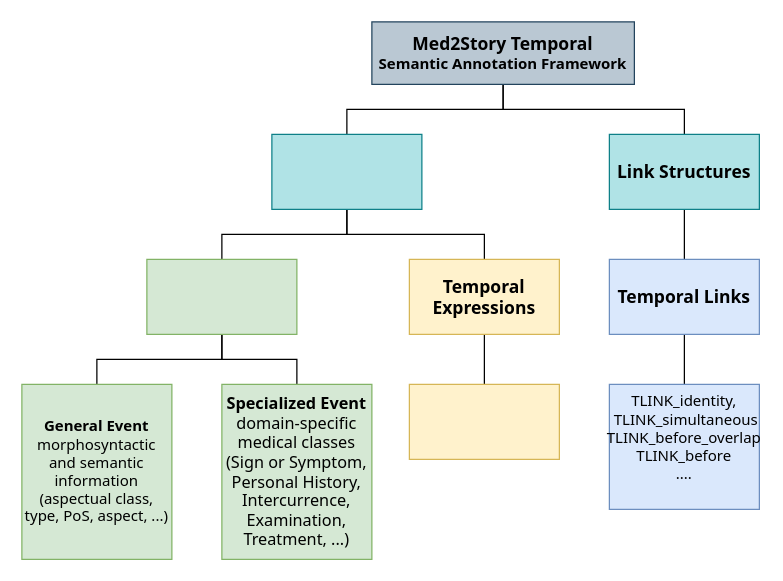
The diagram is 783 pixels wide and 581 high, and some of its shapes have lost their labels. Each missing label, with the centre of its shape:
"Date Time Duration Set" belongs at point (483, 421).
"Entity Structures" belongs at point (346, 171).
"Event" belongs at point (221, 296).
